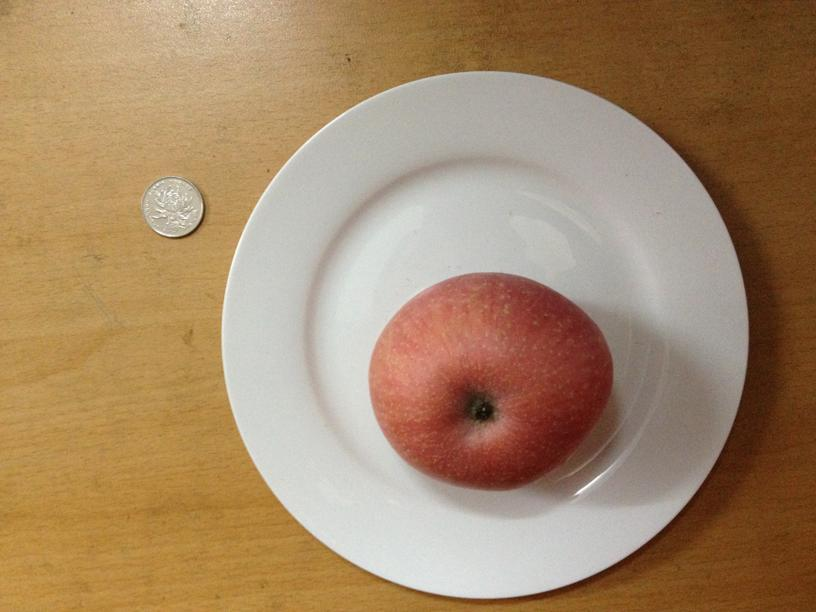apple: (365, 270, 613, 492)
coin: (140, 177, 206, 237)
